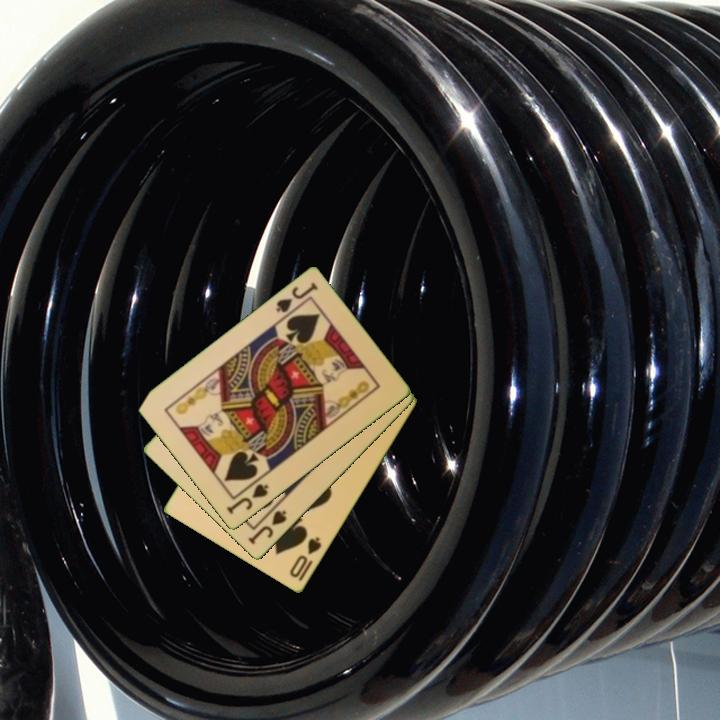10s: (286, 533, 324, 581)
Js: (245, 506, 290, 548), (223, 480, 272, 518), (272, 279, 321, 316)
